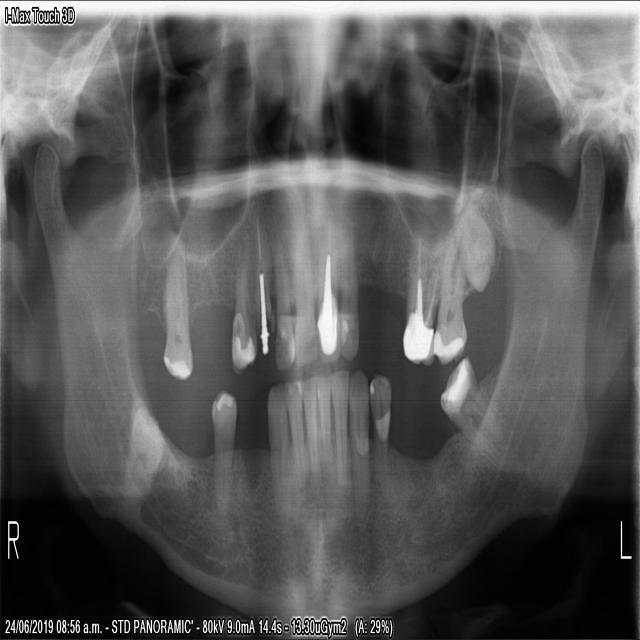LCD: (343, 360, 370, 525)
LID: (327, 361, 352, 491), (311, 364, 334, 485)
LIU: (314, 199, 344, 367), (336, 189, 361, 363)
LMD: (436, 345, 506, 461)
LMU: (397, 216, 436, 368), (428, 236, 469, 371), (449, 196, 498, 302)
LPMD: (366, 368, 395, 510)
RCD: (262, 376, 290, 519)
RID: (296, 364, 324, 492), (282, 371, 309, 495)
RIU: (264, 214, 297, 373), (287, 200, 318, 369)
RMD: (117, 394, 168, 512)
RPMD: (207, 385, 239, 529)
RPMU: (153, 218, 197, 395), (223, 228, 258, 374)
